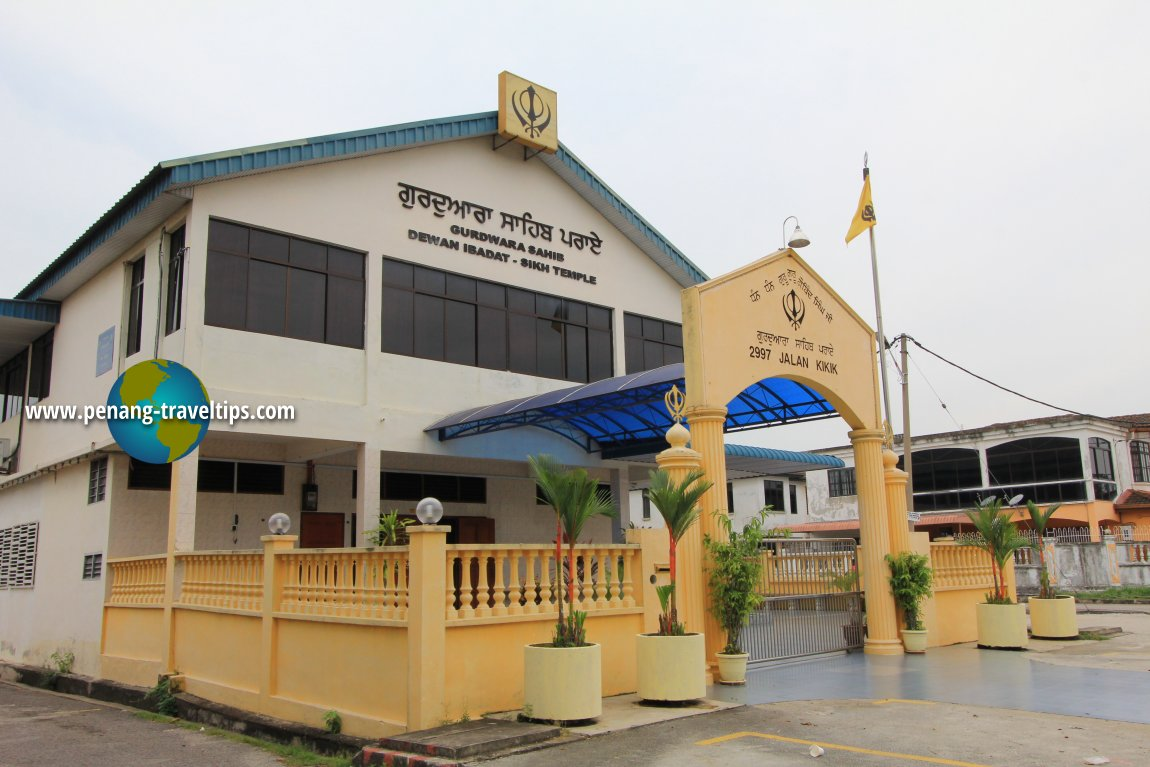Gurdwara: (39, 62, 906, 627)
